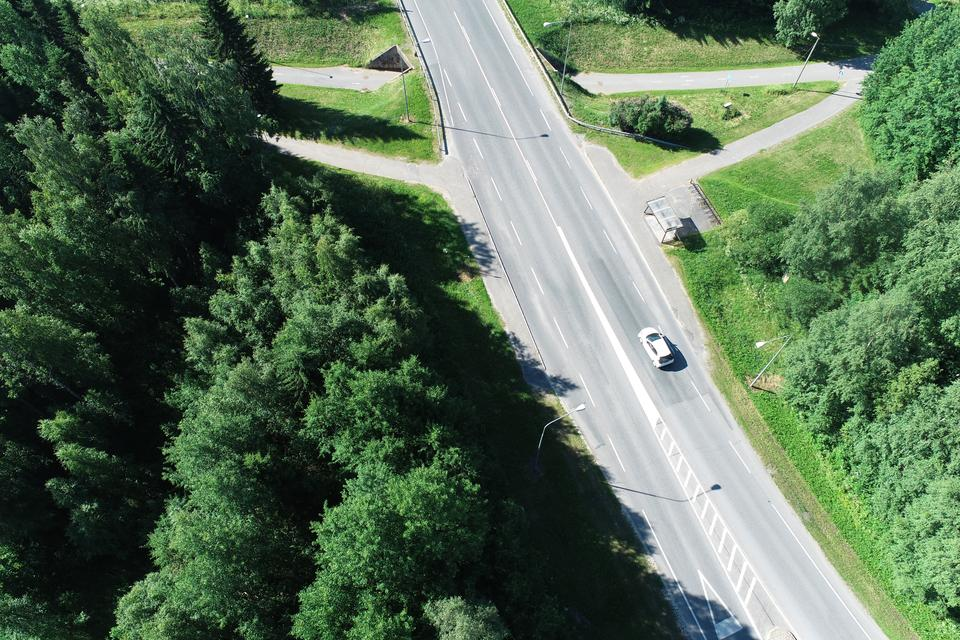intersection: (592, 130, 738, 251), (393, 122, 525, 253), (800, 23, 937, 148)
